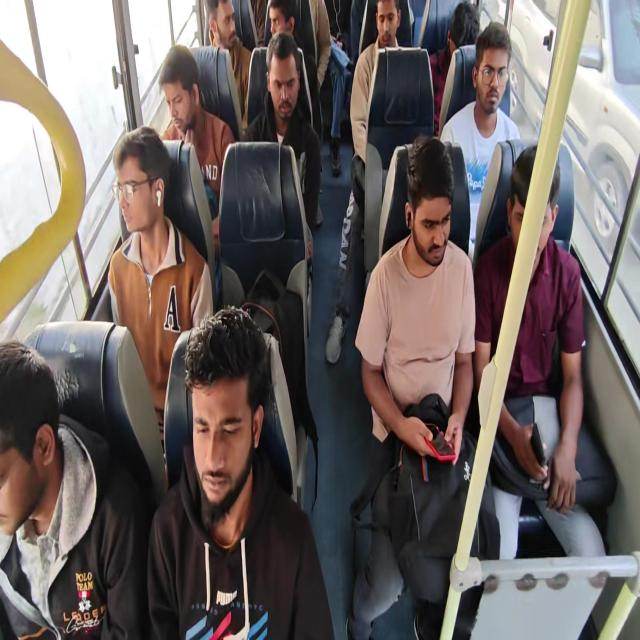person: (182, 336, 252, 520), (0, 340, 68, 520), (402, 159, 452, 268), (514, 152, 554, 265), (113, 141, 161, 231), (156, 55, 195, 137), (476, 31, 510, 117), (268, 53, 299, 129), (208, 0, 240, 50), (447, 8, 477, 59), (369, 0, 398, 49), (260, 3, 294, 42)
